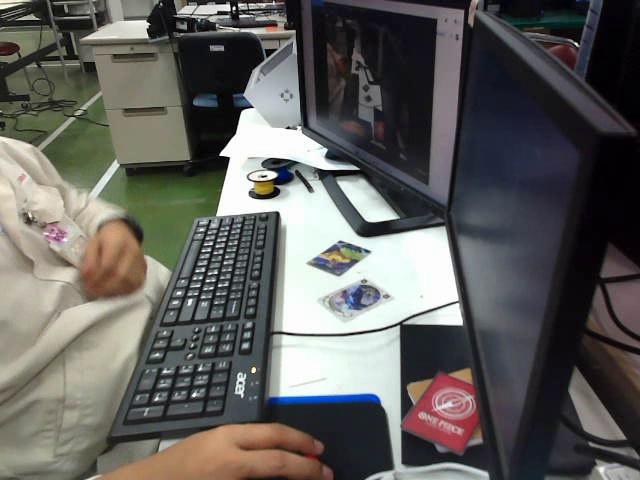can: (316, 273, 390, 320), (304, 239, 376, 276)
